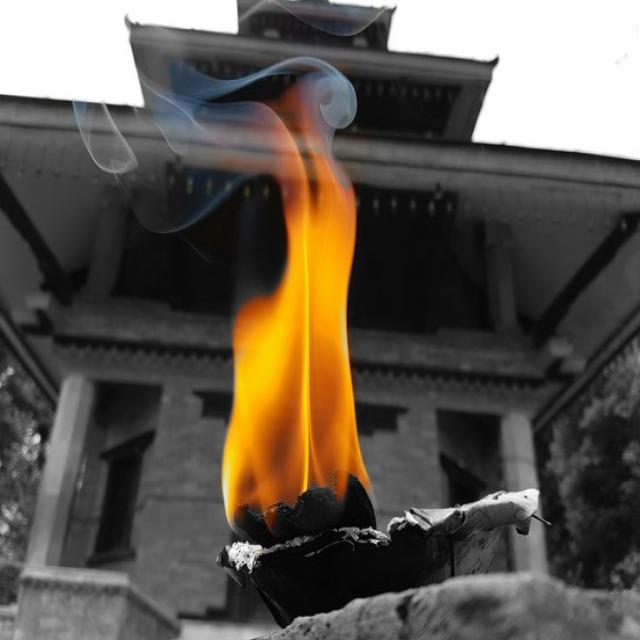fire: (221, 148, 373, 536)
